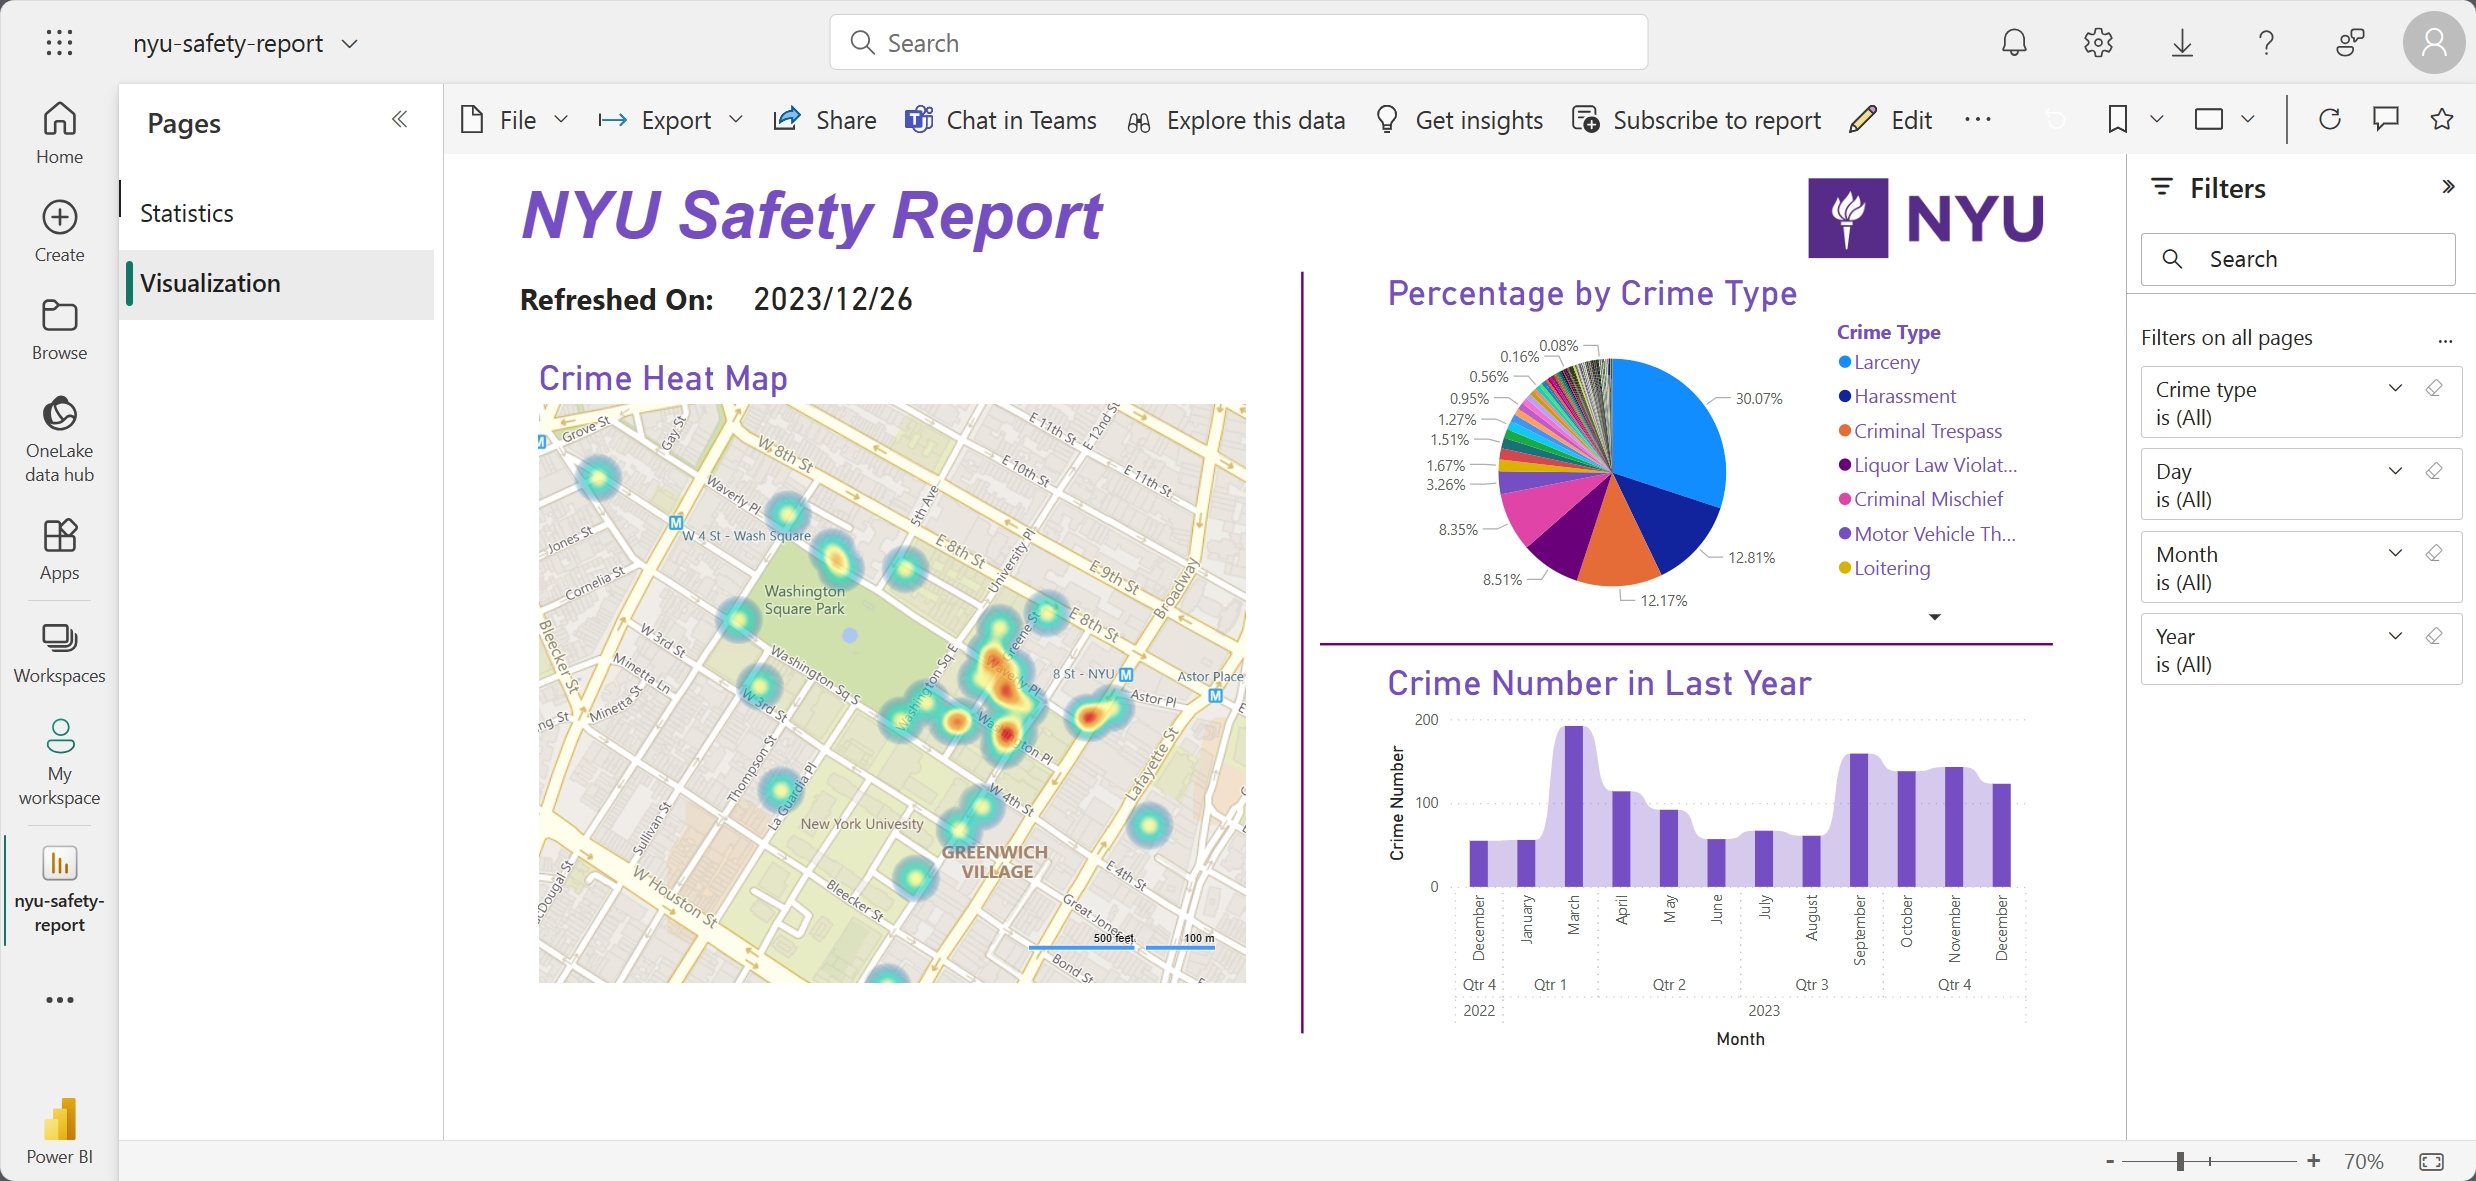

Layout of this report page (visuals, bound fields, positions):
{"tool":"powerbi","page":{"name":"Visualization","canvas":[1280,720],"ordinal":1},"visuals":[{"type":"textbox","box":[10,0,1035,75],"z":0},{"type":"image","box":[1045,0,235,75],"z":1000},{"type":"cardVisual","fields":{"Data":["Min(TimeTable.TimeTable)"]},"box":[188.3,63.3,175,68.3],"z":2000},{"type":"textbox","box":[10,81.7,178.3,45],"z":3000},{"type":"textbox","box":[0,570,1280,150],"z":4000},{"type":"heatmapF244EA9EE1F34E828A80CF19B41976F8","title":"Crime Heat Map","fields":{"latitude":["Sum(complete_crime.Latitude)"],"longitude":["complete_crime.Longitude"]},"box":[25,151.7,586.7,515],"z":5000},{"type":"pieChart","title":"Percentage by Crime Type","fields":{"Y":["CountNonNull(complete_crime.Crime Type)"],"Category":["complete_crime.Crime Type"]},"box":[718.3,81.7,535,295],"z":6000},{"type":"ribbonChart","title":"Crime Number in Last Year","fields":{"Category":["complete_crime.cleaned_report_time.Variation.Date Hierarchy.Year","complete_crime.cleaned_report_time.Variation.Date Hierarchy.Quarter","complete_crime.cleaned_report_time.Variation.Date Hierarchy.Month"],"Y":["CountNonNull(complete_crime.cleaned_report_time)"]},"box":[718,400,535,320],"z":7000},{"type":"shape","box":[640,81.7,28.3,621.7],"z":7001},{"type":"shape","box":[668.3,376.7,598.3,16.7],"z":7002}]}

Visuals, with their boxes on the page's 1280x720 design canvas (x1, y1, x2, y2). These are canvas units, not pixel positions in the 2476x1181 screenshot, which may show the page scaled, cropped or inside an application window:
textbox: (x1=10, y1=0, x2=1045, y2=75)
image: (x1=1045, y1=0, x2=1280, y2=75)
cardVisual - Min(TimeTable.TimeTable): (x1=188, y1=63, x2=363, y2=132)
textbox: (x1=10, y1=82, x2=188, y2=127)
textbox: (x1=0, y1=570, x2=1280, y2=720)
"Crime Heat Map" heatmapF244EA9EE1F34E828A80CF19B41976F8: (x1=25, y1=152, x2=612, y2=667)
"Percentage by Crime Type" pieChart: (x1=718, y1=82, x2=1253, y2=377)
"Crime Number in Last Year" ribbonChart: (x1=718, y1=400, x2=1253, y2=720)
shape: (x1=640, y1=82, x2=668, y2=703)
shape: (x1=668, y1=377, x2=1267, y2=393)
